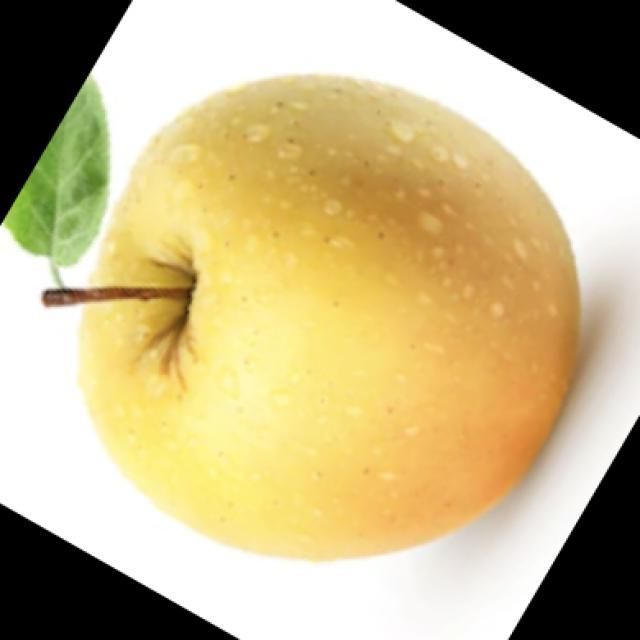Fresh Apple: (69, 92, 564, 540)
